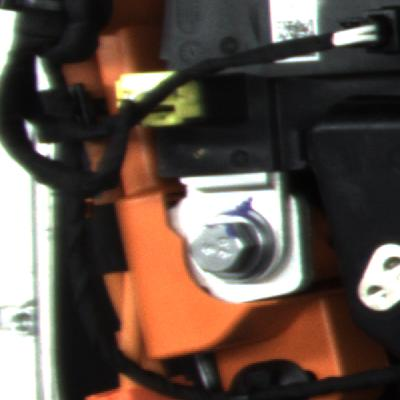nut_b: (188, 201, 266, 284)
